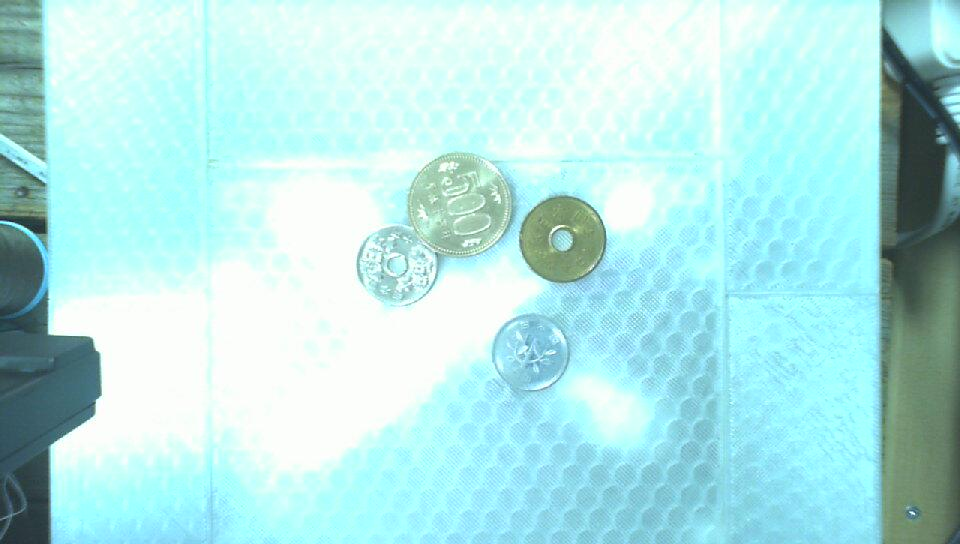1yen: (492, 314, 570, 391)
500yen: (408, 153, 512, 258)
50yen: (356, 225, 438, 306)
5yen: (519, 196, 606, 282)
